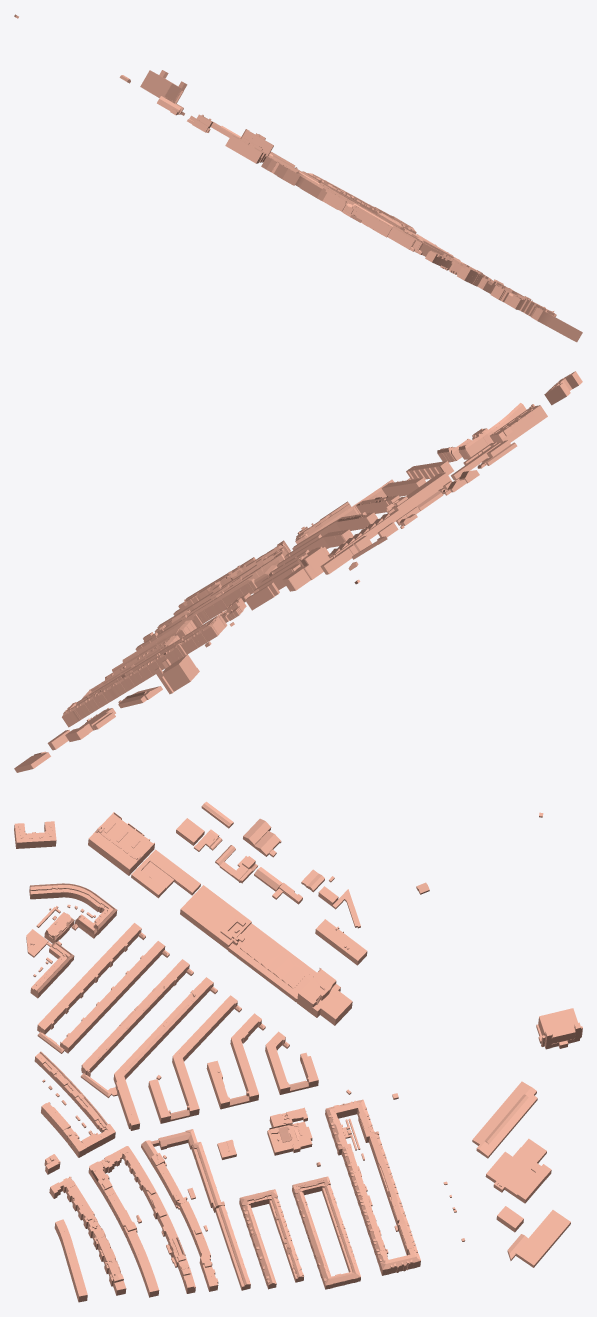
3 renders of one model, top to bottom at view 1: azimuth 30°, elevation 25°; view 2: azimuth 150°, elevation 25°; view 3: azimuth 270°, elevation 25°, orthographic. The views are drawn at different scales.
Bounding box in the file's own units: 1.73e+07 × 1.26e+07 × 2.1e+07.
